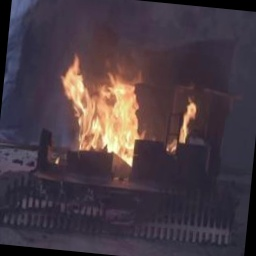fire: (46, 32, 211, 185)
